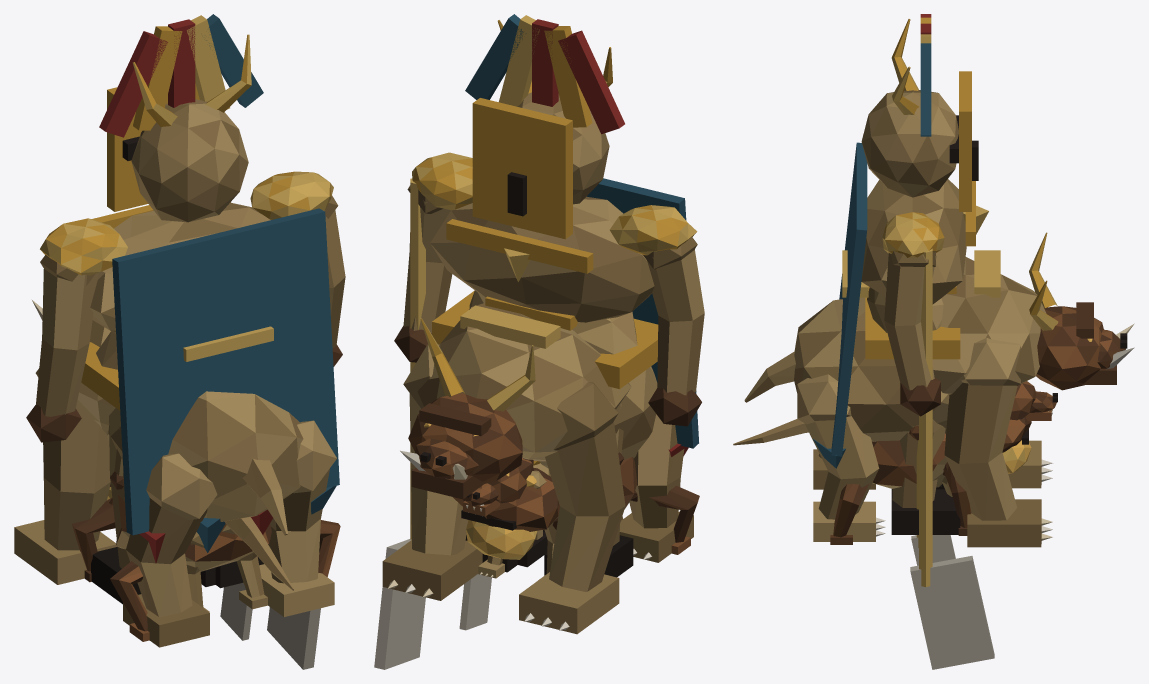
The model's file is foes-temple.glb.
3 views of the same model, side by side, from view 1: azimuth 30°, elevation 25°; view 2: azimuth 150°, elevation 25°; view 3: azimuth 270°, elevation 25° (orthographic). The views are drawn at different scales.
Visible parts, largest first — view 1: fo_temple_boss_cloak, fo_temple_boss_head, fo_temple_brute_body, fo_temple_boss_body, fo_temple_brute_legBL, fo_temple_brute_legFL, fo_temple_boss_armL, fo_temple_brute_legBR, fo_temple_boss_armR, fo_temple_boss_legL, fo_temple_spitter_body, fo_temple_brute_tail (+8 smaller); view 2: fo_temple_boss_body, fo_temple_boss_head, fo_temple_brute_body, fo_temple_brute_legFL, fo_temple_brute_head, fo_temple_boss_armR, fo_temple_brute_legFR, fo_temple_boss_armL, fo_temple_brute_legBL, fo_temple_boss_cloak, fo_temple_spitter_head, fo_temple_spitter_sacGlow (+7 smaller); view 3: fo_temple_brute_body, fo_temple_boss_armR, fo_temple_brute_legFR, fo_temple_boss_head, fo_temple_boss_body, fo_temple_brute_legBR, fo_temple_brute_head, fo_temple_boss_cloak, fo_temple_boss_legR, fo_temple_spitter_body, fo_temple_spitter_legBR, fo_temple_brute_legFL (+7 smaller).
Boxes of the visible parts, box(x1,y1,x2,y2) form: fo_temple_boss_cloak: box(112, 208, 339, 563); fo_temple_boss_head: box(99, 14, 263, 222); fo_temple_brute_body: box(77, 320, 303, 521); fo_temple_boss_body: box(40, 171, 333, 410); fo_temple_brute_legBL: box(123, 453, 217, 647); fo_temple_brute_legFL: box(14, 368, 117, 584); fo_temple_boss_armL: box(26, 255, 98, 442); fo_temple_brute_legBR: box(259, 420, 336, 616); fo_temple_boss_armR: box(267, 195, 345, 669); fo_temple_boss_legL: box(91, 408, 141, 604); fo_temple_spitter_body: box(116, 495, 271, 571); fo_temple_brute_tail: box(242, 459, 287, 535); fo_temple_boss_body: box(412, 152, 697, 389); fo_temple_boss_head: box(465, 14, 624, 239); fo_temple_brute_body: box(417, 296, 657, 468); fo_temple_brute_legFL: box(519, 382, 625, 634); fo_temple_brute_head: box(400, 318, 535, 483); fo_temple_boss_armR: box(374, 178, 452, 669); fo_temple_brute_legFR: box(382, 344, 482, 600); fo_temple_boss_armL: box(643, 237, 704, 426); fo_temple_brute_legBL: box(619, 414, 693, 562); fo_temple_boss_cloak: box(587, 178, 698, 456); fo_temple_spitter_head: box(453, 461, 559, 531); fo_temple_spitter_sacGlow: box(466, 520, 537, 559); fo_temple_brute_body: box(794, 250, 1046, 441); fo_temple_boss_armR: box(884, 248, 994, 669); fo_temple_brute_legFR: box(944, 337, 1052, 547); fo_temple_boss_head: box(861, 14, 978, 211); fo_temple_boss_body: box(861, 179, 988, 359); fo_temple_brute_legBR: box(797, 374, 885, 541); fo_temple_brute_head: box(1029, 232, 1134, 390); fo_temple_boss_cloak: box(813, 142, 867, 468); fo_temple_boss_legR: box(891, 419, 960, 534); fo_temple_spitter_body: box(872, 433, 947, 488); fo_temple_spitter_legBR: box(830, 484, 868, 544); fo_temple_brute_legFL: box(1008, 440, 1052, 488).
Size of the model in its own units: 1.71 by 3.67 by 2.28.
